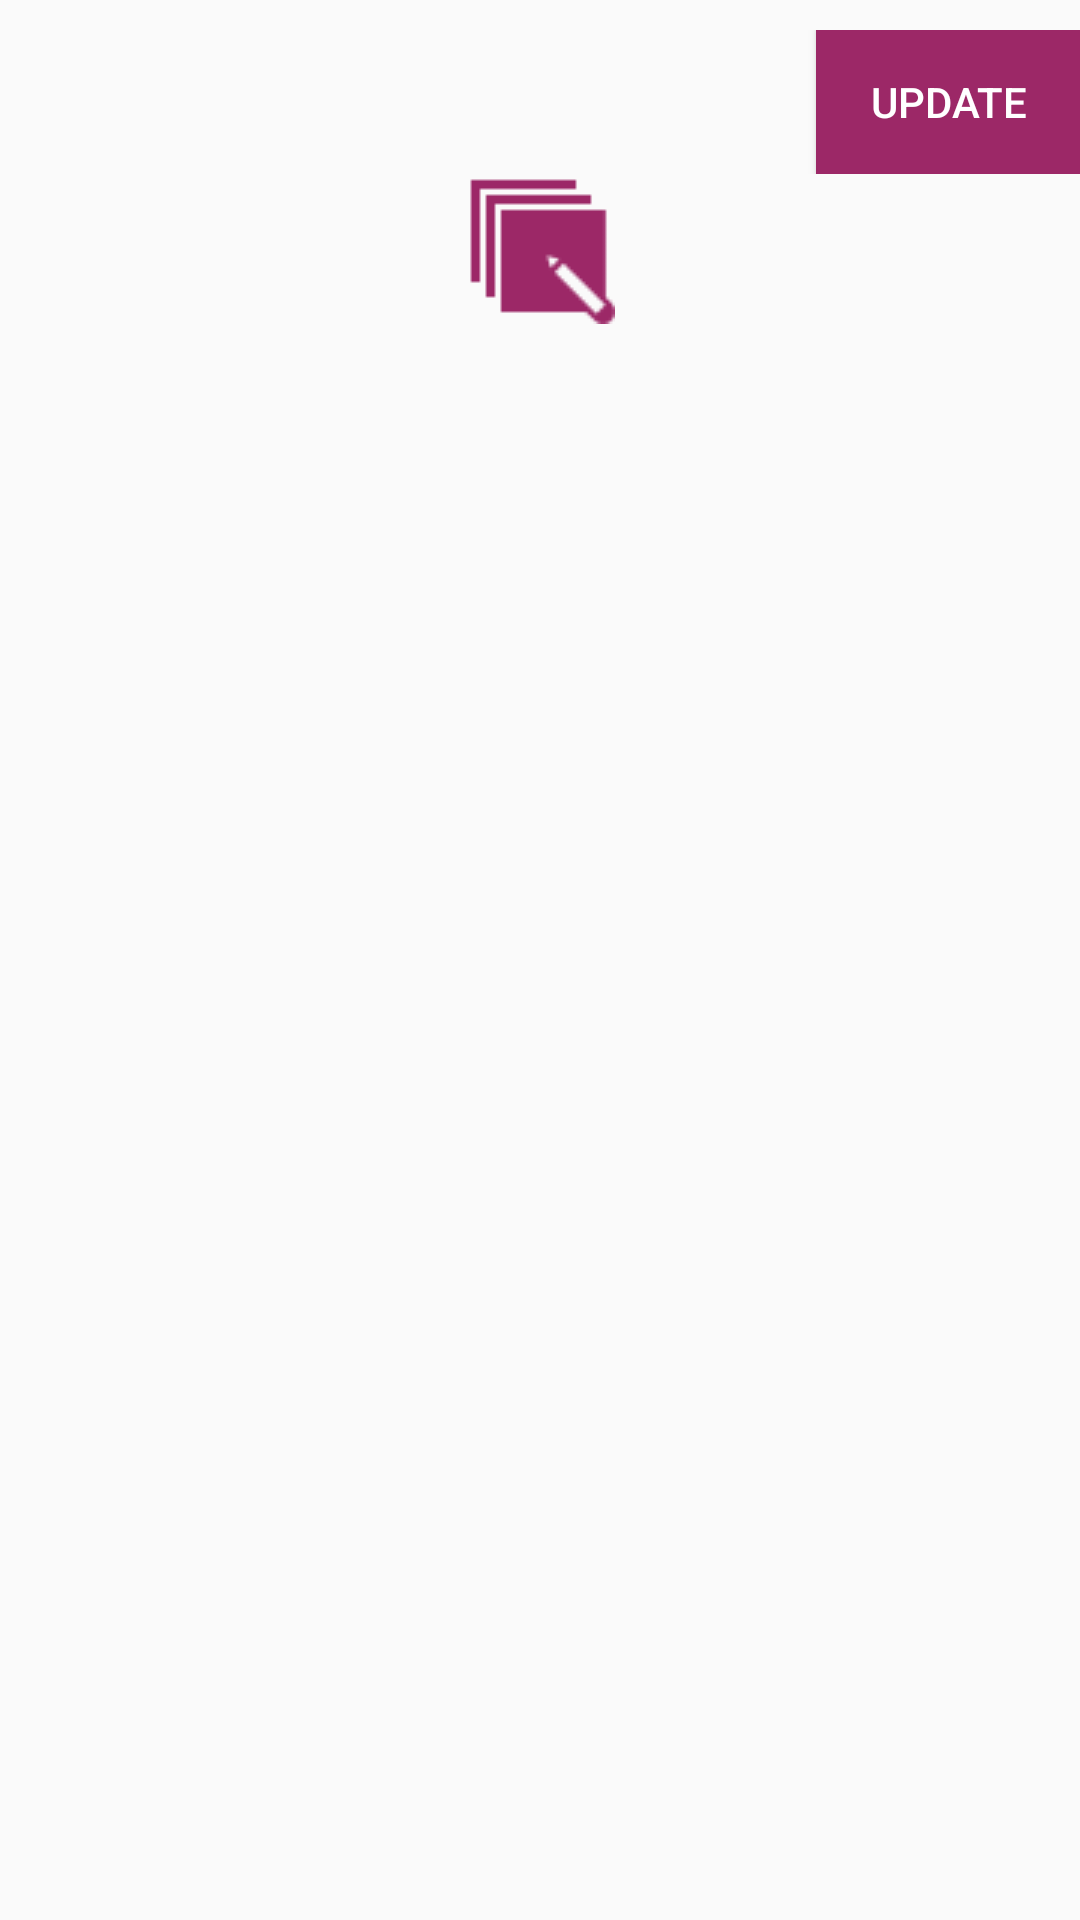

Icon click points for this 1080x1920 phone screenshot, format (x=x, y=y):
editt: (x=542, y=251)
